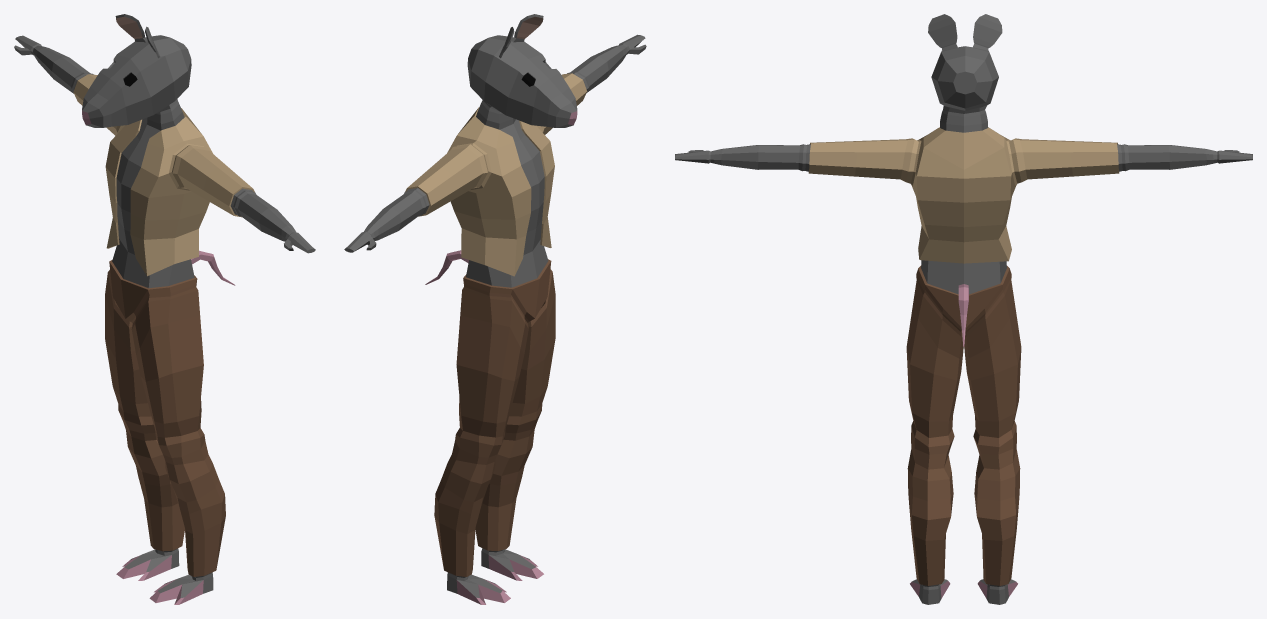
The model's file is człowiek szczur.fbx.
3 views of the same model, side by side, from view 1: azimuth 30°, elevation 25°; view 2: azimuth 150°, elevation 25°; view 3: azimuth 270°, elevation 25° (orthographic).
Parts seen in each view (by area): view 1: Cube.002, Cube.001, Cube.003; view 2: Cube.002, Cube.001, Cube.003; view 3: Cube.002, Cube.003, Cube.001.
Part boxes in pixels (x1,y1,x2,y2): Cube.002: (105,260,225,576); Cube.001: (14,14,315,604); Cube.003: (73,74,254,276); Cube.002: (434,259,555,576); Cube.001: (344,14,646,604); Cube.003: (405,73,587,276); Cube.002: (906,265,1021,585); Cube.003: (808,127,1119,263); Cube.001: (675,14,1252,604).
Bounding box in the file's own units: 39.77 × 142 × 132.
